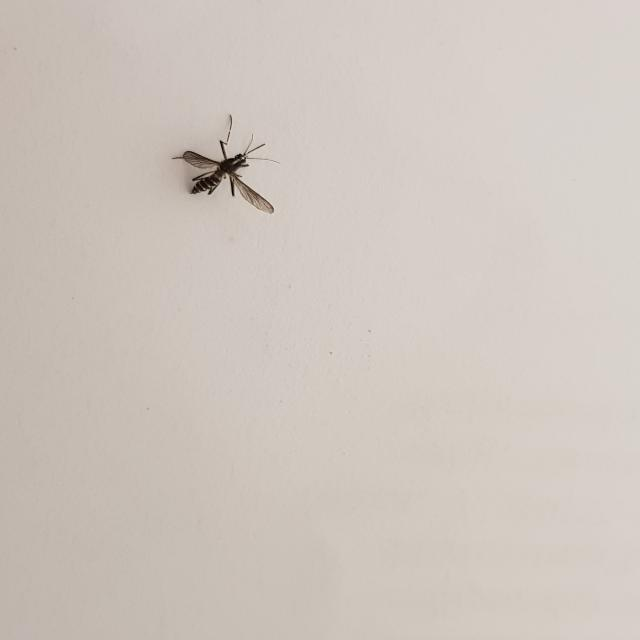albopictus: (167, 105, 280, 214)
